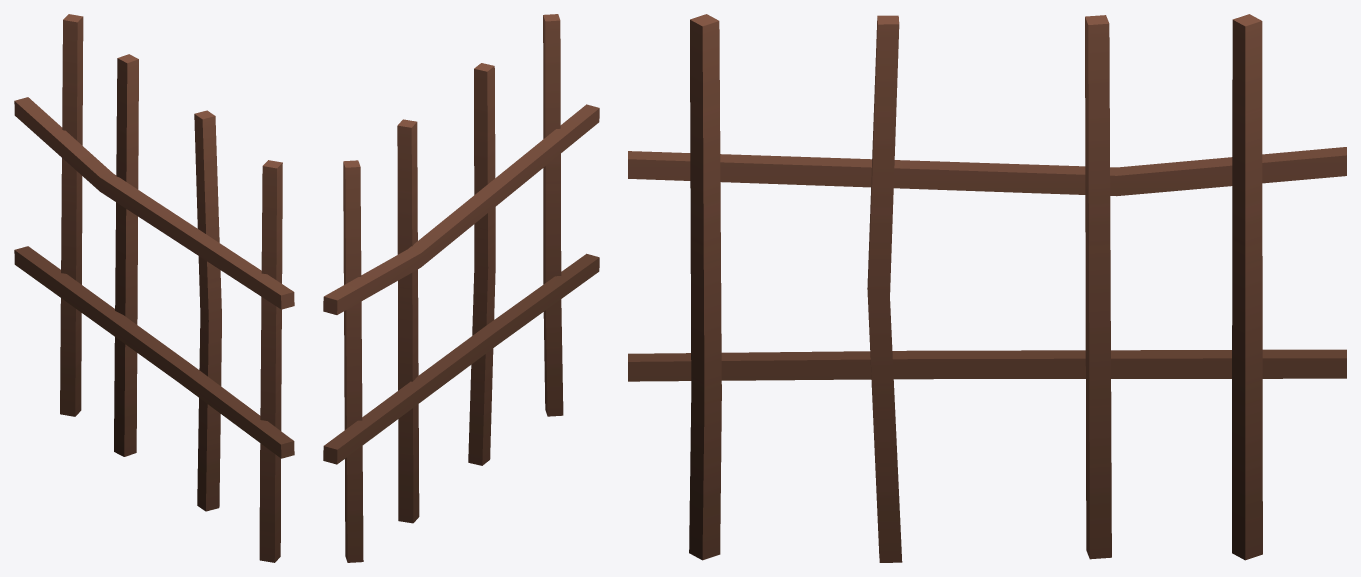
The model's file is RreinforcingBars_A_3.glb.
3 renders of one model, left to right at view 1: azimuth 30°, elevation 25°; view 2: azimuth 150°, elevation 25°; view 3: azimuth 270°, elevation 25°, orthographic. The views are drawn at different scales.
Visible parts, largest first — view 1: RreinforcingBars_A_3; view 2: RreinforcingBars_A_3; view 3: RreinforcingBars_A_3.
Boxes of the visible parts, bbox=[...] form: RreinforcingBars_A_3: bbox=[14, 14, 294, 562]; RreinforcingBars_A_3: bbox=[323, 14, 599, 562]; RreinforcingBars_A_3: bbox=[628, 14, 1346, 562].
Size of the model in its own units: 0.0531 by 0.598 by 0.7276.
Materials: 1 (1 with a texture image).
